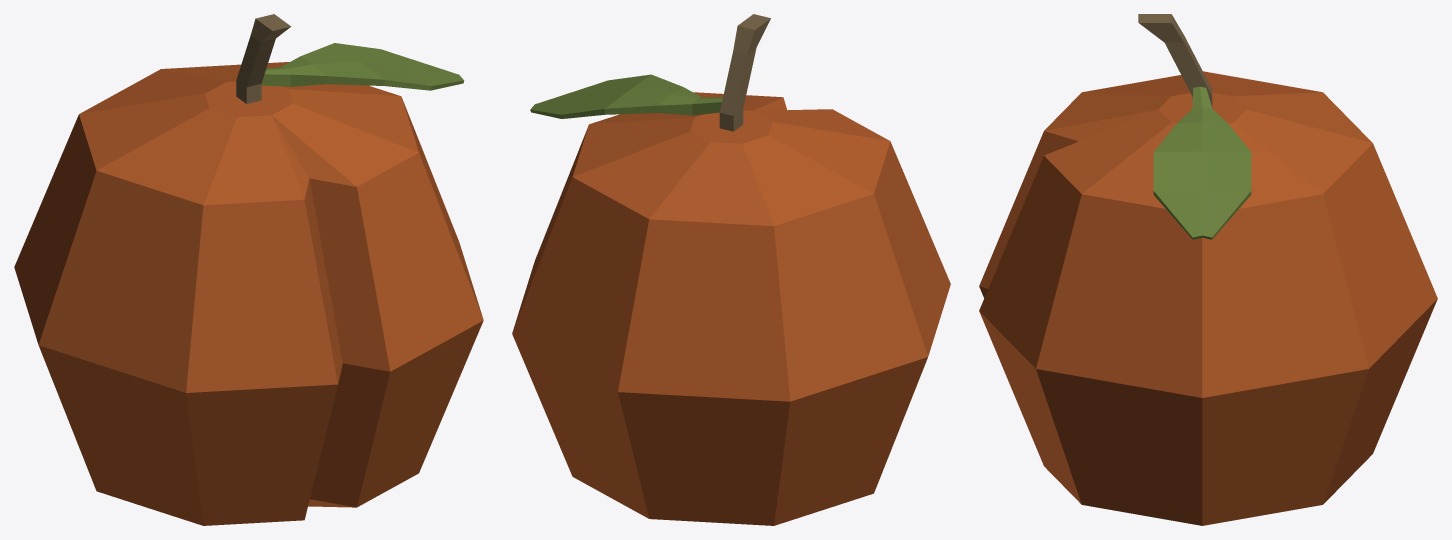
File: SM_Envr_Nature_Farm_Fruit_Apricot.fbx
The picture shows the model from 3 angles, left to right: view 1: azimuth 30°, elevation 25°; view 2: azimuth 150°, elevation 25°; view 3: azimuth 270°, elevation 25°; orthographic projection. The views are drawn at different scales.
Parts seen in each view (by area): view 1: SM_Envr_Nature_Farm_Fruit_Apricot; view 2: SM_Envr_Nature_Farm_Fruit_Apricot; view 3: SM_Envr_Nature_Farm_Fruit_Apricot.
Part boxes in pixels (x1,y1,x2,y2): SM_Envr_Nature_Farm_Fruit_Apricot: (14,14,483,525); SM_Envr_Nature_Farm_Fruit_Apricot: (512,14,950,525); SM_Envr_Nature_Farm_Fruit_Apricot: (979,14,1437,525).
Bounding box in the file's own units: 16 × 17.59 × 15.59.
